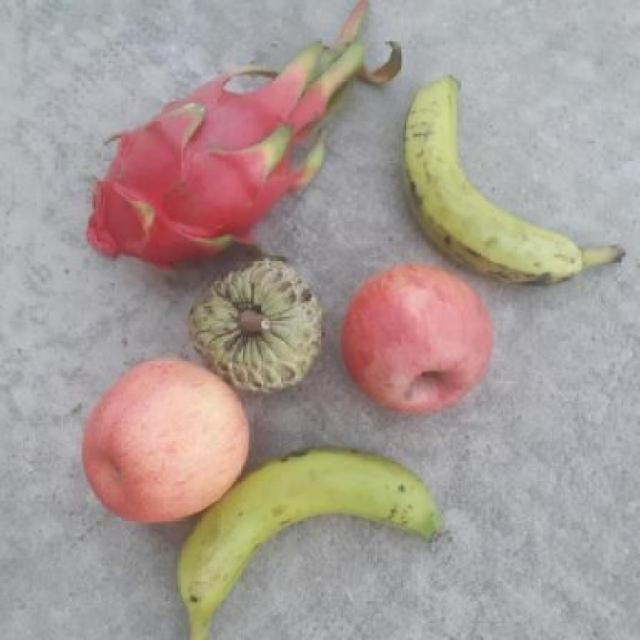apple: (74, 355, 251, 527), (337, 261, 501, 417)
banana: (173, 444, 442, 640), (397, 70, 608, 288)
dragon fruit: (82, 91, 309, 274)
sugar apple: (181, 255, 327, 398)
